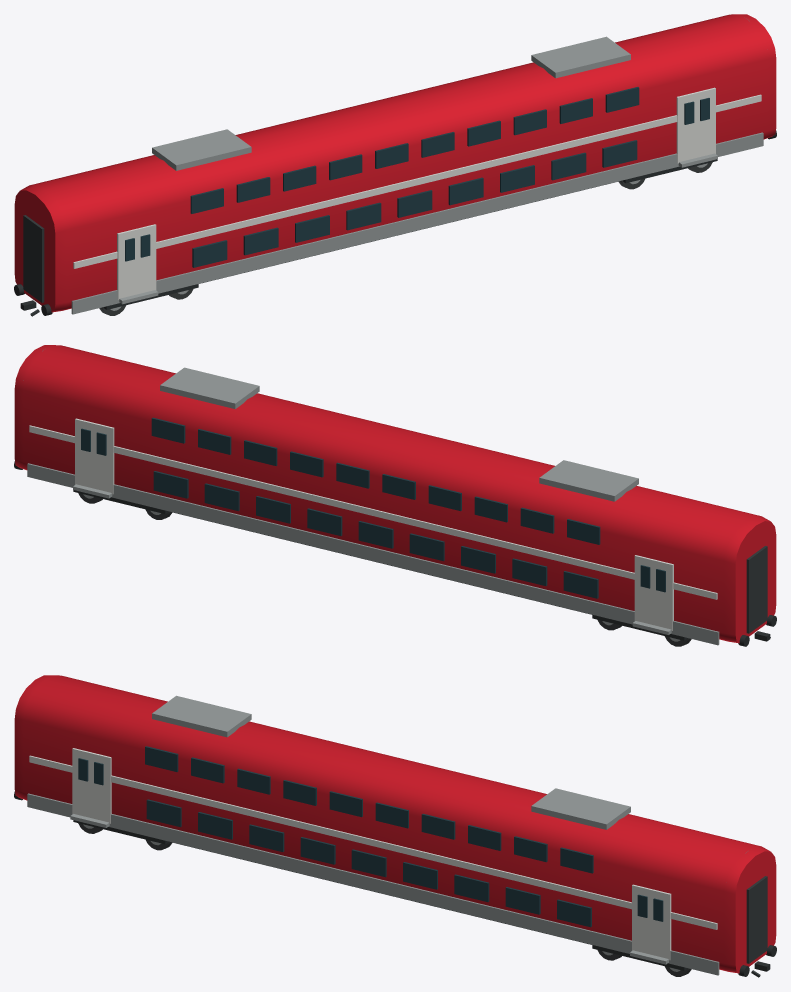
File: db-regional-express-second-class.glb
3 views of the same model, one above another, from view 1: azimuth 30°, elevation 25°; view 2: azimuth 150°, elevation 25°; view 3: azimuth 330°, elevation 25° (orthographic).
Parts seen in each view (by area): view 1: second_class_double_deck_body, second_class_lower_skirt_-1, second_class_white_belt_-1, second_class_roof_hvac_0, second_class_roof_hvac_1, second_class_door_-1_0, second_class_door_-1_1, second_class_gangway_-1, second_class_lower_window_-1_7, second_class_lower_window_-1_3, second_class_lower_window_-1_1, second_class_lower_window_-1_5 (+15 smaller); view 2: second_class_double_deck_body, second_class_lower_skirt_1, second_class_white_belt_1, second_class_roof_hvac_1, second_class_roof_hvac_0, second_class_door_1_0, second_class_door_1_1, second_class_gangway_-1, second_class_lower_window_1_3, second_class_lower_window_1_1, second_class_lower_window_1_5, second_class_lower_window_1_7 (+17 smaller); view 3: second_class_double_deck_body, second_class_lower_skirt_-1, second_class_white_belt_-1, second_class_roof_hvac_0, second_class_roof_hvac_1, second_class_door_-1_0, second_class_door_-1_1, second_class_gangway_1, second_class_lower_window_-1_0, second_class_lower_window_-1_4, second_class_lower_window_-1_2, second_class_lower_window_-1_6 (+15 smaller).
Boxes of the visible parts, bbox=[...] form: second_class_double_deck_body: bbox=[14, 14, 776, 312]; second_class_lower_skirt_-1: bbox=[71, 132, 763, 314]; second_class_white_belt_-1: bbox=[73, 94, 761, 268]; second_class_roof_hvac_0: bbox=[152, 129, 251, 170]; second_class_roof_hvac_1: bbox=[531, 36, 630, 78]; second_class_door_-1_0: bbox=[117, 224, 156, 299]; second_class_door_-1_1: bbox=[676, 87, 715, 163]; second_class_gangway_-1: bbox=[23, 215, 44, 302]; second_class_lower_window_-1_7: bbox=[551, 152, 586, 180]; second_class_lower_window_-1_3: bbox=[346, 202, 381, 230]; second_class_lower_window_-1_1: bbox=[243, 227, 278, 255]; second_class_lower_window_-1_5: bbox=[448, 177, 483, 205]; second_class_double_deck_body: bbox=[14, 345, 776, 643]; second_class_lower_skirt_1: bbox=[27, 463, 719, 645]; second_class_white_belt_1: bbox=[29, 425, 717, 599]; second_class_roof_hvac_1: bbox=[160, 367, 259, 409]; second_class_roof_hvac_0: bbox=[539, 460, 638, 501]; second_class_door_1_0: bbox=[634, 555, 673, 630]; second_class_door_1_1: bbox=[75, 418, 114, 494]; second_class_gangway_-1: bbox=[746, 546, 767, 633]; second_class_lower_window_1_3: bbox=[409, 533, 444, 561]; second_class_lower_window_1_1: bbox=[512, 558, 547, 585]; second_class_lower_window_1_5: bbox=[307, 508, 342, 535]; second_class_lower_window_1_7: bbox=[204, 483, 239, 511]; second_class_double_deck_body: bbox=[14, 675, 776, 973]; second_class_lower_skirt_-1: bbox=[27, 793, 719, 975]; second_class_white_belt_-1: bbox=[29, 755, 717, 929]; second_class_roof_hvac_0: bbox=[152, 695, 251, 737]; second_class_roof_hvac_1: bbox=[531, 788, 630, 829]; second_class_door_-1_0: bbox=[72, 748, 111, 823]; second_class_door_-1_1: bbox=[632, 884, 671, 960]; second_class_gangway_1: bbox=[746, 876, 767, 963]; second_class_lower_window_-1_0: bbox=[146, 799, 181, 827]; second_class_lower_window_-1_4: bbox=[351, 849, 386, 877]; second_class_lower_window_-1_2: bbox=[249, 824, 284, 851]; second_class_lower_window_-1_6: bbox=[454, 874, 489, 902].
Size of the model in its own units: 27.74 by 4.82 by 3.35.
